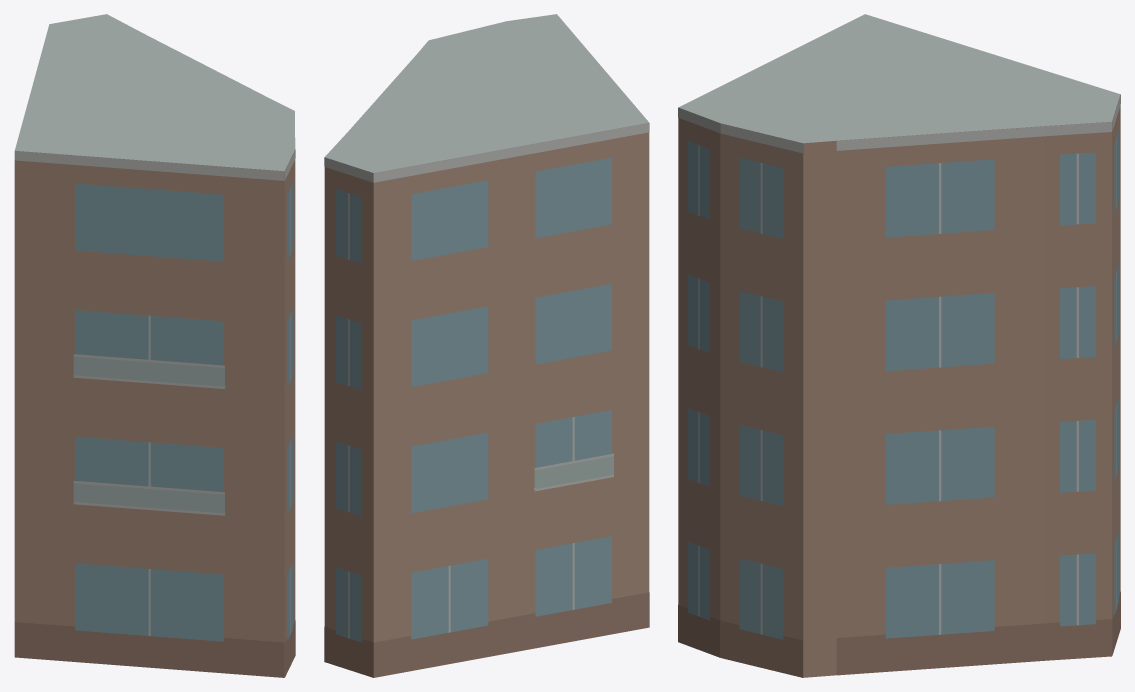
File: survey-upis-32935625.glb
3 views of the same model, side by side, from view 1: azimuth 30°, elevation 25°; view 2: azimuth 150°, elevation 25°; view 3: azimuth 270°, elevation 25° (orthographic). The views are drawn at different scales.
Parts seen in each view (by area): view 1: survey-upis-32935625.tmp; view 2: survey-upis-32935625.tmp; view 3: survey-upis-32935625.tmp.
Boxes of the visible parts, x1,y1,x2,y2 form: survey-upis-32935625.tmp: [14, 14, 295, 677]; survey-upis-32935625.tmp: [324, 14, 649, 677]; survey-upis-32935625.tmp: [678, 14, 1120, 677].
Bounding box in the file's own units: 6.65 × 12.8 × 9.61.
